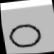no answer: (5, 20, 44, 49)
